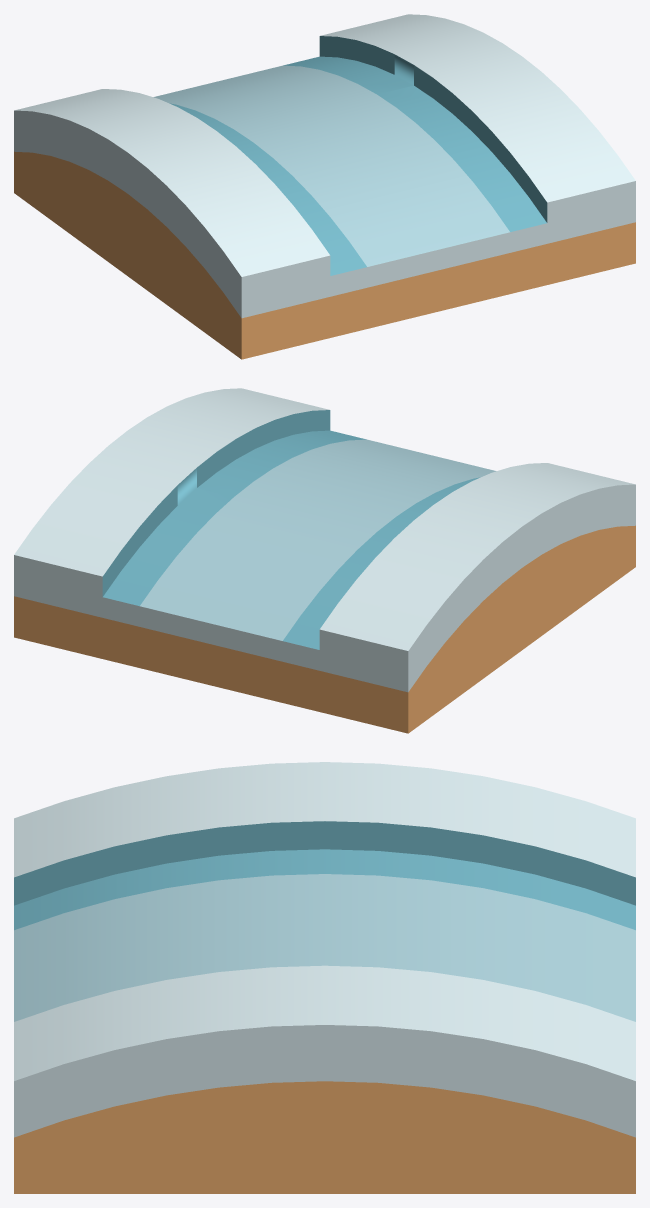
Rendered from snowTileBump.fbx.
3 views of the same model, one above another, from view 1: azimuth 30°, elevation 25°; view 2: azimuth 150°, elevation 25°; view 3: azimuth 270°, elevation 25° (orthographic). The views are drawn at different scales.
Visible parts, largest first — view 1: snow_tile_bump; view 2: snow_tile_bump; view 3: snow_tile_bump.
Boxes of the visible parts, bbox=[...] form: snow_tile_bump: bbox=[14, 14, 635, 359]; snow_tile_bump: bbox=[14, 388, 635, 733]; snow_tile_bump: bbox=[14, 762, 635, 1193].
Size of the model in its own units: 39.37 by 11.81 by 39.37.
